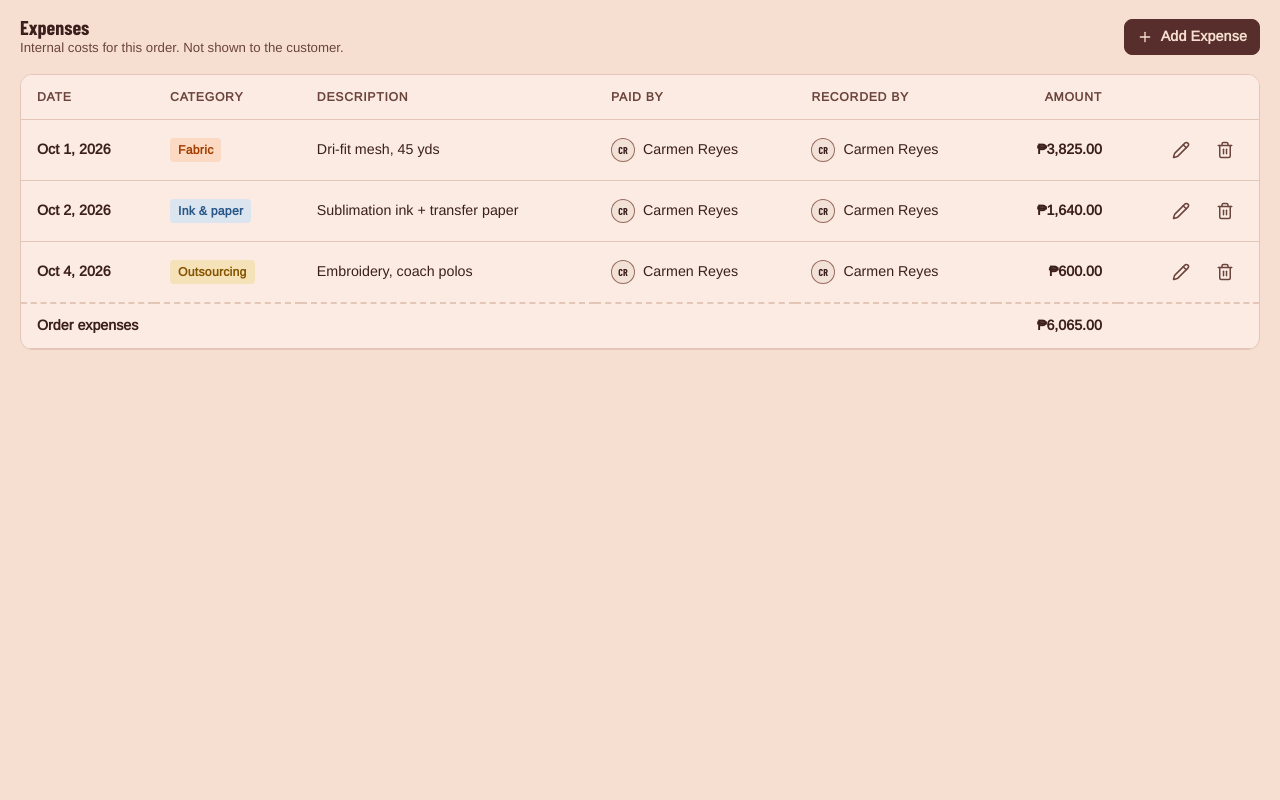
it: Add Expense › opens the Add Expense window from the button
This screenshot has width=1280, height=800.
Click the button "Add Expense".
click(1192, 37)  # box [1124,19,1260,55]
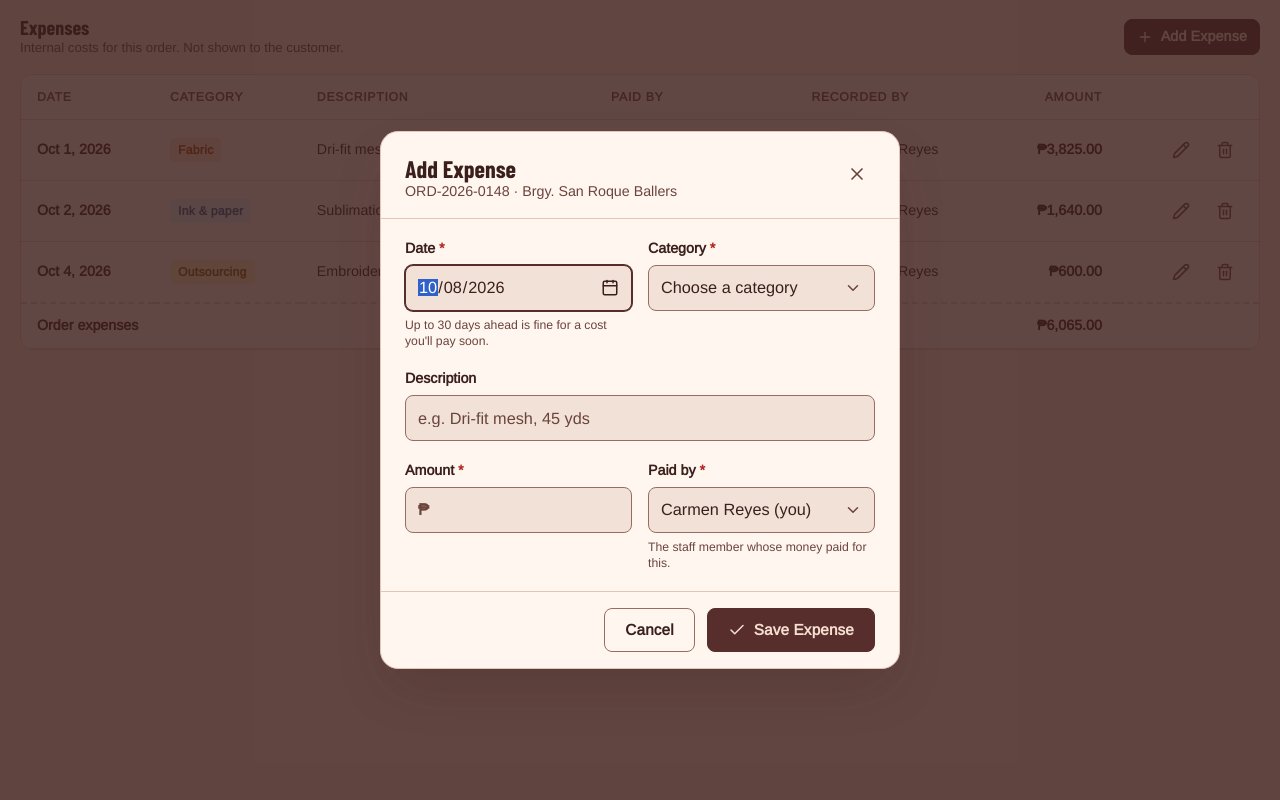
Check: the dialog "Add Expense" is shown, box [380,131,900,669]
